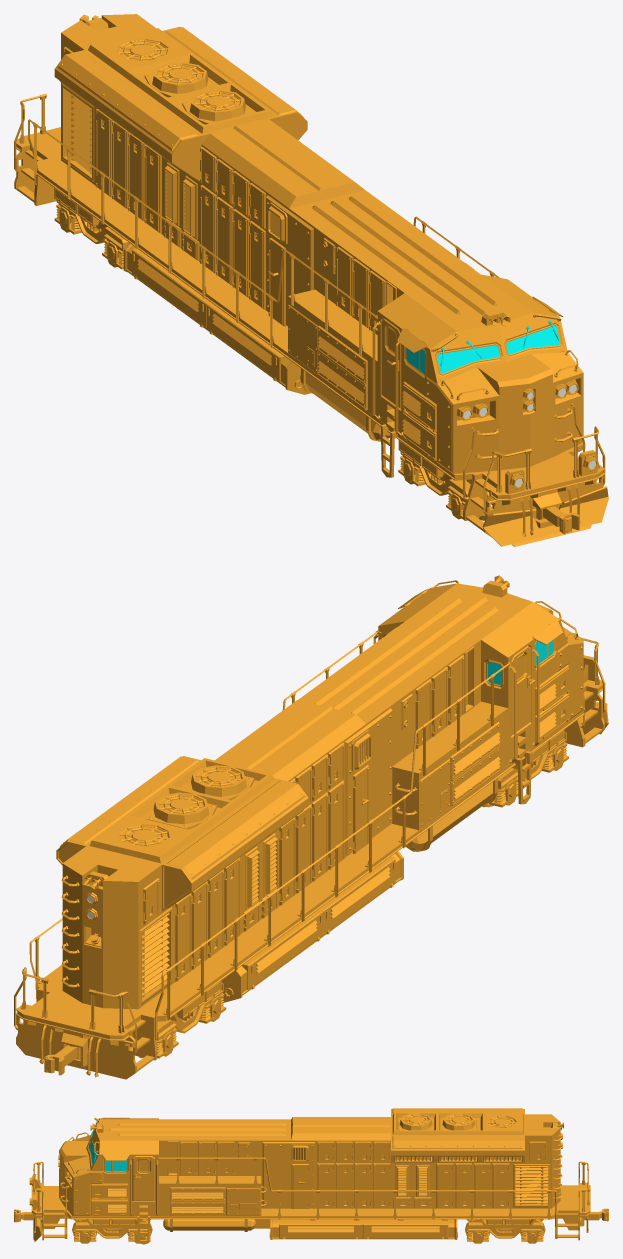
Rendered from SM_Train_Locomotive_Cargo.fbx.
3 renders of one model, top to bottom at view 1: azimuth 30°, elevation 25°; view 2: azimuth 150°, elevation 25°; view 3: azimuth 270°, elevation 25°, orthographic. The views are drawn at different scales.
Parts seen in each view (by area): view 1: SM_Train_Locomotive_Cargo_Base, SM_Train_Locomotive_Cargo_Base_Chassis_B, SM_Train_Locomotive_Cargo_Base_Chassis_F, SM_Train_Locomotive_Cargo_Base_Joint_F; view 2: SM_Train_Locomotive_Cargo_Base, SM_Train_Locomotive_Cargo_Base_Chassis_B, SM_Train_Locomotive_Cargo_Base_Chassis_F, SM_Train_Locomotive_Cargo_Base_Joint_B; view 3: SM_Train_Locomotive_Cargo_Base, SM_Train_Locomotive_Cargo_Base_Chassis_B, SM_Train_Locomotive_Cargo_Base_Chassis_F, SM_Train_Locomotive_Cargo_Base_Joint_B.
Boxes of the visible parts, bbox=[...] form: SM_Train_Locomotive_Cargo_Base: bbox=[14, 14, 608, 546]; SM_Train_Locomotive_Cargo_Base_Chassis_B: bbox=[54, 200, 128, 269]; SM_Train_Locomotive_Cargo_Base_Chassis_F: bbox=[398, 452, 492, 520]; SM_Train_Locomotive_Cargo_Base_Joint_F: bbox=[536, 506, 579, 534]; SM_Train_Locomotive_Cargo_Base: bbox=[14, 575, 608, 1079]; SM_Train_Locomotive_Cargo_Base_Chassis_B: bbox=[156, 982, 226, 1058]; SM_Train_Locomotive_Cargo_Base_Chassis_F: bbox=[489, 731, 568, 807]; SM_Train_Locomotive_Cargo_Base_Joint_B: bbox=[44, 1044, 80, 1075]; SM_Train_Locomotive_Cargo_Base: bbox=[29, 1108, 590, 1244]; SM_Train_Locomotive_Cargo_Base_Chassis_B: bbox=[466, 1219, 543, 1243]; SM_Train_Locomotive_Cargo_Base_Chassis_F: bbox=[73, 1219, 150, 1243]; SM_Train_Locomotive_Cargo_Base_Joint_B: bbox=[584, 1208, 608, 1221].
Bounding box in the file's own units: 3.62 × 4.62 × 21.89.
